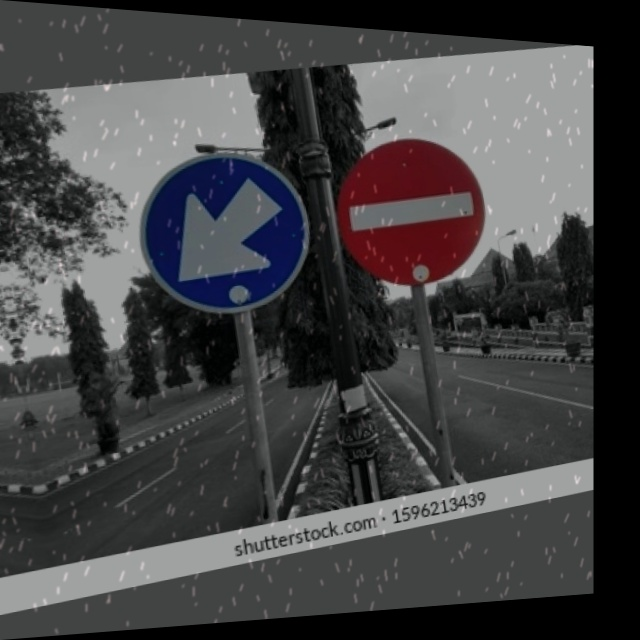Compulsory_Keep_Left: (132, 141, 313, 316)
